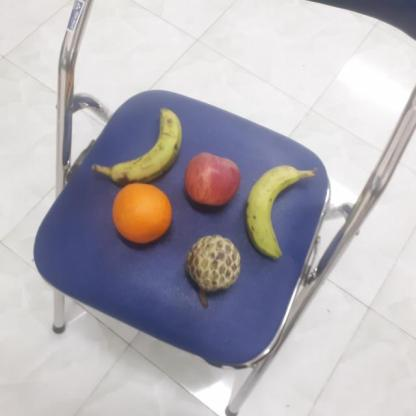annona: (180, 234, 242, 292)
apple: (183, 152, 242, 209)
banana: (244, 162, 305, 262), (109, 106, 184, 182)
orange: (108, 183, 170, 245)
